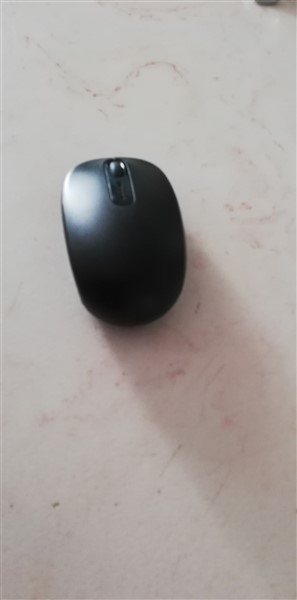mouse: (55, 153, 196, 334)
